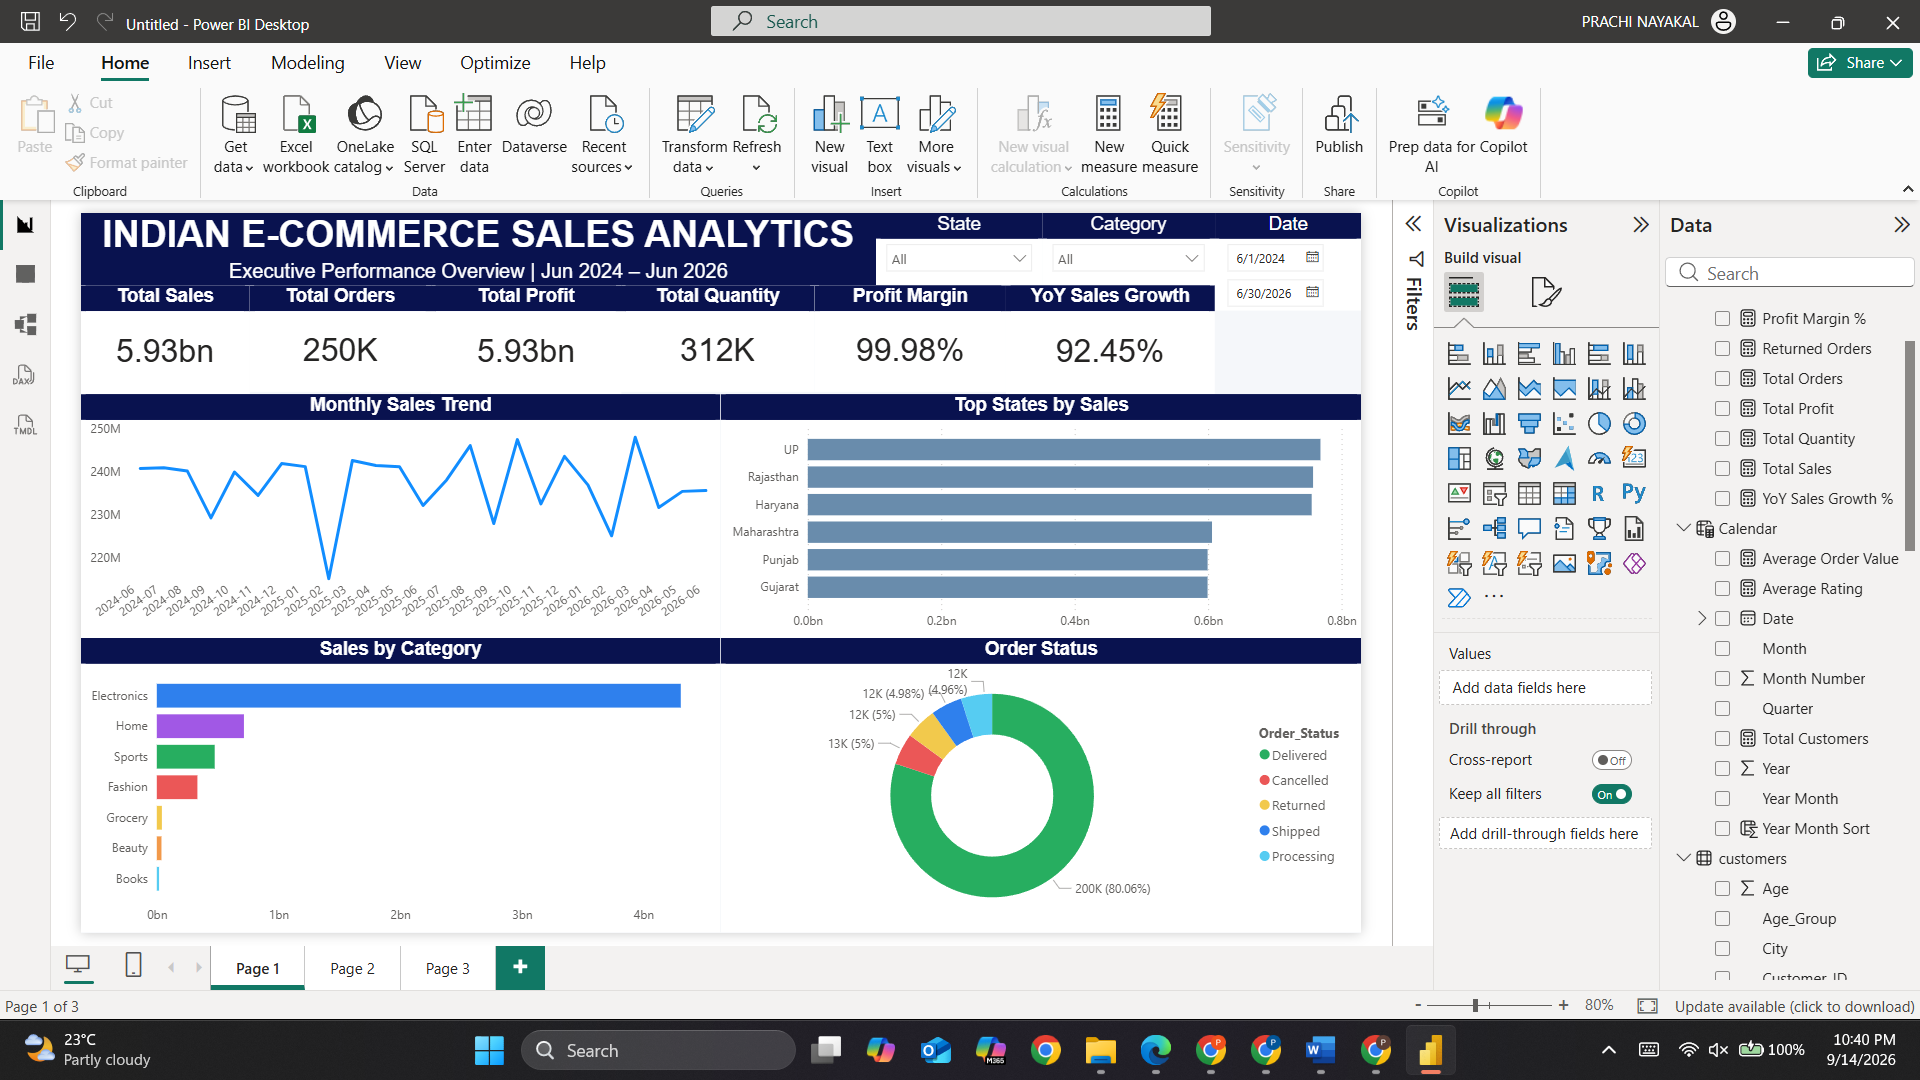

The dashboard page shown, as its layout file describes it:
{"tool":"powerbi","page":{"name":"Page 1","canvas":[1280,720],"ordinal":0},"visuals":[{"type":"cardVisual","title":"Total Sales","fields":{"Data":["Measures (2).Total Sales"]},"box":[0,72.1,168.8,108.8],"z":0},{"type":"cardVisual","title":"Total Orders","fields":{"Data":["Measures (2).Total Orders"]},"box":[168.8,72.5,181.2,106.2],"z":1000},{"type":"cardVisual","title":"Total Profit","fields":{"Data":["Measures (2).Total Profit"]},"box":[350,72.5,190,108.8],"z":2000},{"type":"cardVisual","title":"Total Quantity","fields":{"Data":["Measures (2).Total Quantity"]},"box":[540,72.5,193.8,106.2],"z":3000},{"type":"cardVisual","title":"Profit Margin","fields":{"Data":["Measures (2).Profit Margin %"]},"box":[733.8,72.5,191.2,106.2],"z":4000},{"type":"cardVisual","title":"YoY Sales Growth","fields":{"Data":["Measures (2).YoY Sales Growth %"]},"box":[925,72.5,208.8,108.8],"z":5000},{"type":"lineChart","title":"Monthly Sales Trend","fields":{"Category":["Calendar.Year Month"],"Y":["Measures (2).Total Sales"]},"box":[0,181,639.5,244.6],"z":6000},{"type":"barChart","title":"Sales by Category","fields":{"Category":["products.Category"],"Y":["Measures (2).Total Sales"]},"box":[0,425.5,639.5,294.7],"z":7000},{"type":"clusteredBarChart","title":"Top States by Sales","fields":{"Category":["sales.State"],"Y":["Measures (2).Total Sales"]},"box":[639.5,181,640.8,244.6],"z":8000},{"type":"donutChart","title":"Order Status","fields":{"Category":["sales.Order_Status"],"Y":["Measures (2).Total Orders"]},"box":[639.5,425.5,640.8,294.7],"z":9000},{"type":"textbox","box":[354,0,440.5,43.9],"z":10000},{"type":"textbox","title":"INDIAN E-COMMERCE SALES ANALYTICS ","box":[0,0,794.8,72.1],"z":11000},{"type":"slicer","title":"Date","fields":{"Values":["Calendar.Date"]},"box":[1133.6,0,146.7,97.8],"z":12000},{"type":"slicer","title":"State","fields":{"Values":["customers.State"]},"box":[794.8,0,166.3,72.1],"z":13000},{"type":"slicer","title":"Category","fields":{"Values":["products.Category"]},"box":[961.1,0,172.4,72.1],"z":14000}]}

Visuals, with their boxes on the page's 1280x720 design canvas (x1, y1, x2, y2). These are canvas units, not pixel positions in the 1920x1080 screenshot, which may show the page scaled, cropped or inside an application window:
"Total Sales" cardVisual: l=0, t=72, r=169, b=181
"Total Orders" cardVisual: l=169, t=72, r=350, b=179
"Total Profit" cardVisual: l=350, t=72, r=540, b=181
"Total Quantity" cardVisual: l=540, t=72, r=734, b=179
"Profit Margin" cardVisual: l=734, t=72, r=925, b=179
"YoY Sales Growth" cardVisual: l=925, t=72, r=1134, b=181
"Monthly Sales Trend" lineChart: l=0, t=181, r=640, b=426
"Sales by Category" barChart: l=0, t=426, r=640, b=720
"Top States by Sales" clusteredBarChart: l=640, t=181, r=1280, b=426
"Order Status" donutChart: l=640, t=426, r=1280, b=720
textbox: l=354, t=0, r=794, b=44
"INDIAN E-COMMERCE SALES ANALYTICS " textbox: l=0, t=0, r=795, b=72
"Date" slicer: l=1134, t=0, r=1280, b=98
"State" slicer: l=795, t=0, r=961, b=72
"Category" slicer: l=961, t=0, r=1134, b=72
